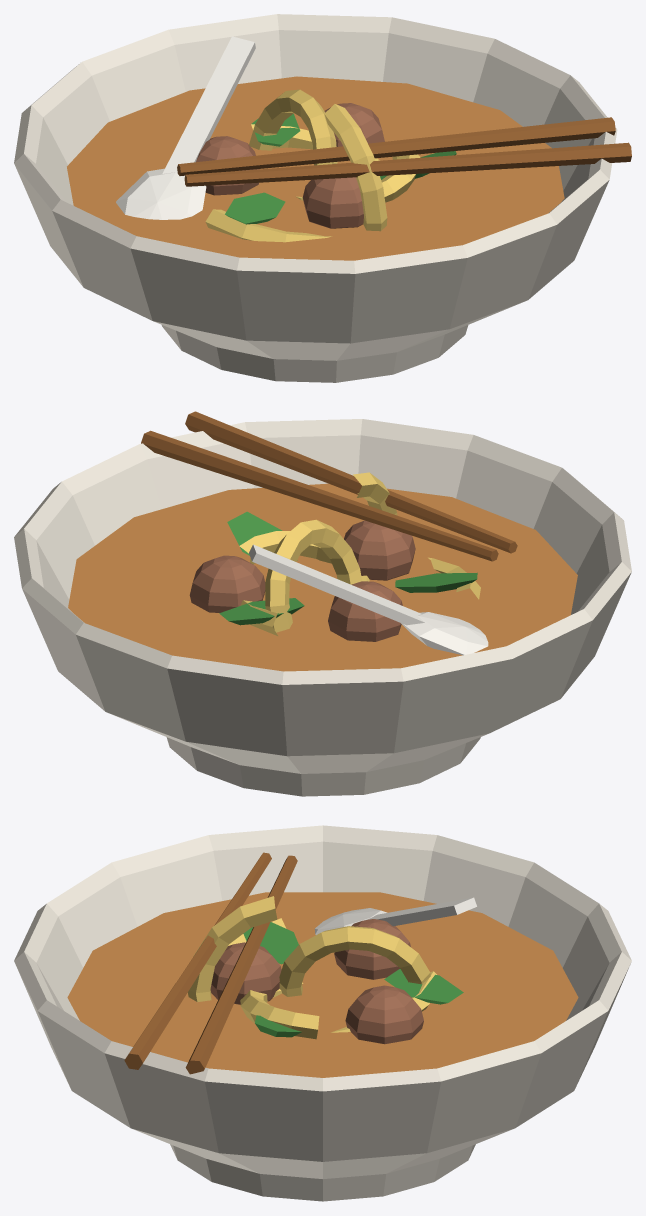
File: noodles-lite.glb
3 views of the same model, one above another, from view 1: azimuth 30°, elevation 25°; view 2: azimuth 150°, elevation 25°; view 3: azimuth 270°, elevation 25° (orthographic). The views are drawn at different scales.
Visible parts, largest first — view 1: VesselMesh, NoodleFullBroth, NoodleChopsticks, NoodleFullStrands, NoodleSoupSpoon, NoodleFullMeatballs, NoodleFullGreens; view 2: VesselMesh, NoodleFullBroth, NoodleChopsticks, NoodleFullMeatballs, NoodleFullStrands, NoodleSoupSpoon, NoodleFullGreens; view 3: VesselMesh, NoodleFullBroth, NoodleFullStrands, NoodleFullMeatballs, NoodleChopsticks, NoodleFullGreens, NoodleSoupSpoon.
Boxes of the visible parts, x1,y1,x2,y2 form: VesselMesh: (14, 14, 617, 382); NoodleFullBroth: (67, 76, 564, 260); NoodleChopsticks: (177, 117, 631, 186); NoodleFullStrands: (205, 89, 420, 242); NoodleSoupSpoon: (116, 36, 255, 219); NoodleFullMeatballs: (196, 103, 384, 228); NoodleFullGreens: (225, 114, 456, 224); VesselMesh: (14, 419, 631, 796); NoodleFullBroth: (68, 483, 577, 671); NoodleChopsticks: (141, 411, 517, 561); NoodleFullMeatballs: (189, 520, 415, 641); NoodleFullStrands: (239, 472, 480, 635); NoodleSoupSpoon: (249, 544, 488, 655); NoodleFullGreens: (219, 511, 477, 625); VesselMesh: (14, 825, 631, 1201); NoodleFullBroth: (67, 892, 578, 1077); NoodleFullStrands: (188, 896, 436, 1039); NoodleFullMeatballs: (210, 919, 423, 1044); NoodleChopsticks: (124, 852, 297, 1074); NoodleFullGreens: (243, 922, 463, 1037); NoodleSoupSpoon: (314, 897, 476, 934).
Bounding box in the file's own units: 0.22 × 0.093 × 0.22.
